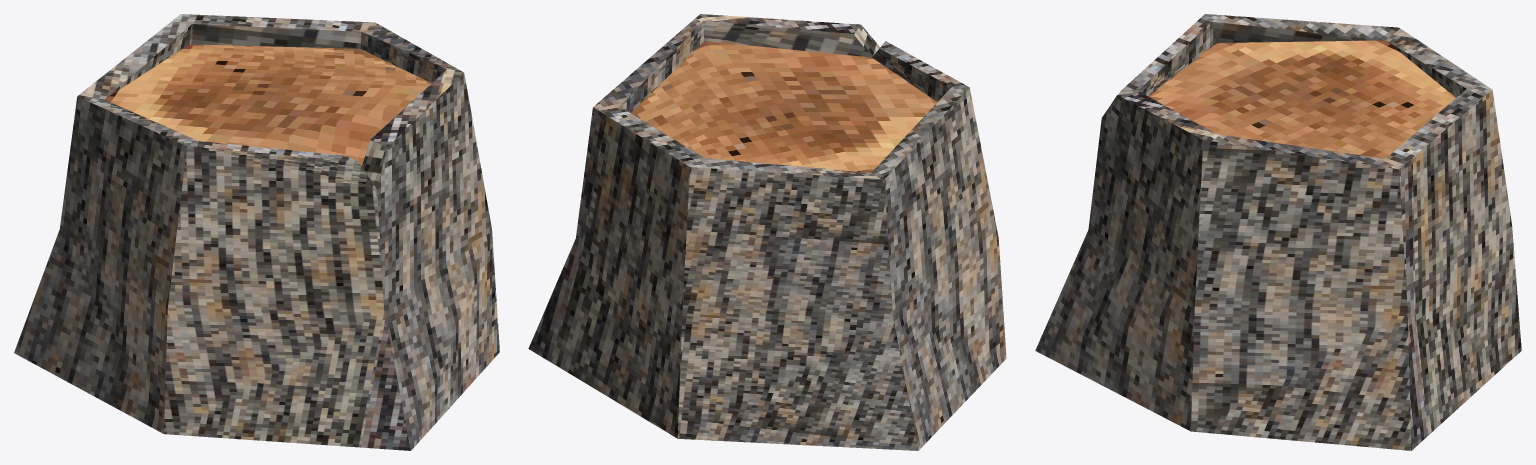
File: trunk.fbx
The picture shows the model from 3 angles, left to right: view 1: azimuth 30°, elevation 25°; view 2: azimuth 150°, elevation 25°; view 3: azimuth 270°, elevation 25°; orthographic projection. The views are drawn at different scales.
Visible parts, largest first — view 1: trunk; view 2: trunk; view 3: trunk.
Boxes of the visible parts, left/top/right/bottom form: trunk: left=14, top=14, right=499, bottom=450; trunk: left=528, top=14, right=1006, bottom=450; trunk: left=1035, top=14, right=1521, bottom=450.
Bounding box in the file's own units: 81.02 × 53.83 × 85.3.
2 materials, 2 textured.
